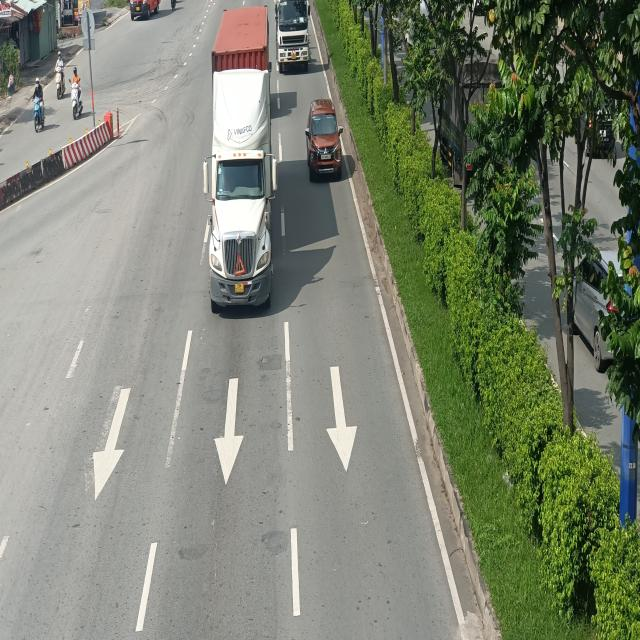car: (305, 98, 342, 178)
container: (202, 7, 278, 312), (274, 0, 312, 68)
